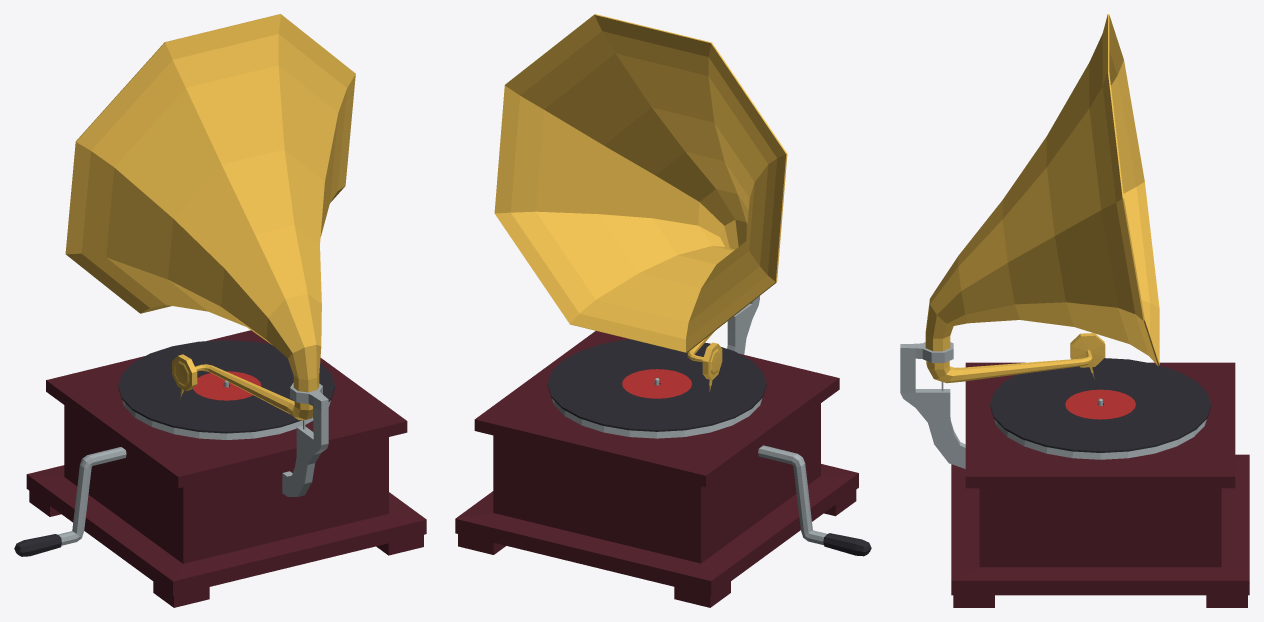
3 renders of one model, left to right at view 1: azimuth 30°, elevation 25°; view 2: azimuth 150°, elevation 25°; view 3: azimuth 270°, elevation 25°, orthographic.
Visible parts, largest first — view 1: horn_5, base_0, record_2, crank_3, needle_4, turntable_1; view 2: horn_5, base_0, record_2, crank_3, turntable_1, needle_4; view 3: base_0, horn_5, record_2, needle_4, turntable_1.
Part boxes in pixels (x1,y1,x2,y2): horn_5: (65,14,355,403); base_0: (26,330,426,607); record_2: (118,340,335,433); crank_3: (14,447,126,556); needle_4: (172,354,312,420); turntable_1: (122,380,330,439); horn_5: (494,14,787,352); base_0: (455,296,858,607); record_2: (547,339,766,431); crank_3: (758,445,871,556); turntable_1: (552,378,762,438); needle_4: (687,331,722,391); base_0: (900,342,1249,607); horn_5: (925,14,1159,366); record_2: (990,358,1210,452); needle_4: (926,333,1105,383); turntable_1: (994,398,1206,459).
Size of the model in its own units: 2.76 by 3.72 by 2.34.
Materials: 1 (1 with a texture image).
